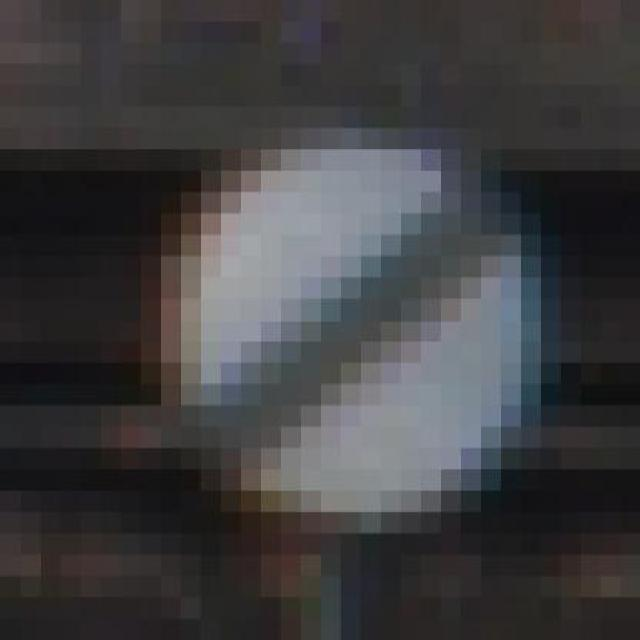End of all speed and passing limits: (120, 106, 580, 534)
